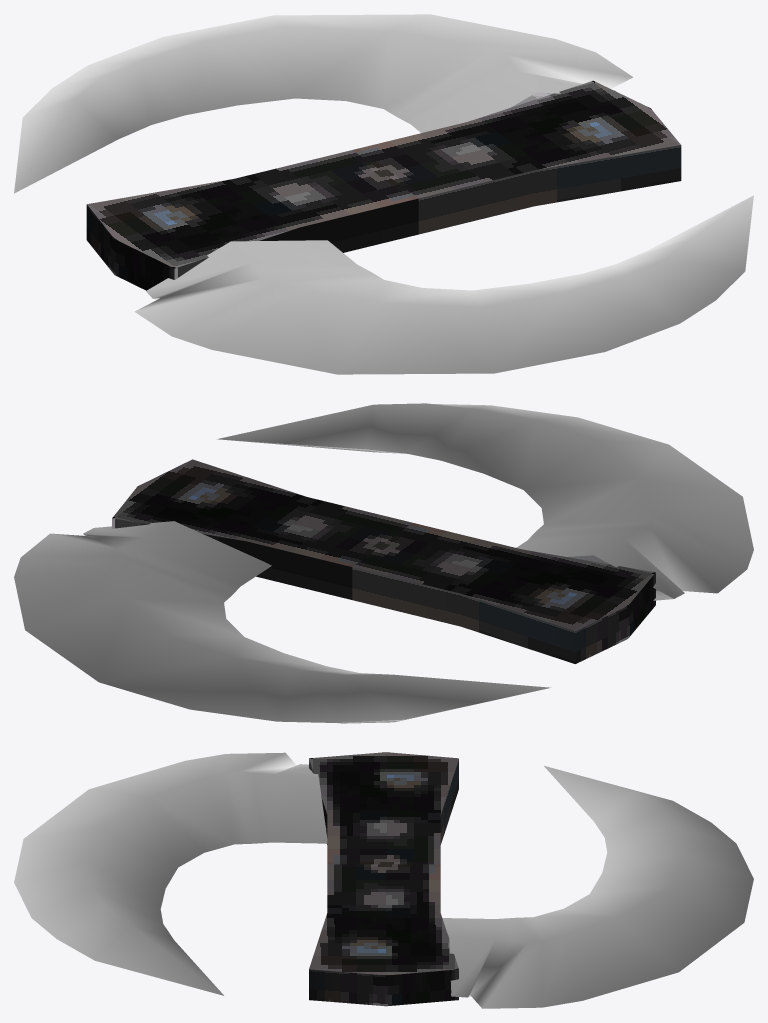
File: bullseye_star.glb
3 renders of one model, top to bottom at view 1: azimuth 30°, elevation 25°; view 2: azimuth 150°, elevation 25°; view 3: azimuth 270°, elevation 25°, orthographic. The views are drawn at different scales.
Parts seen in each view (by area): view 1: weapons/bullseye_star_1, weapons/bullseye_star_0; view 2: weapons/bullseye_star_1, weapons/bullseye_star_0; view 3: weapons/bullseye_star_1, weapons/bullseye_star_0.
Part boxes in pixels (box(x1,y1,x2,y2)): weapons/bullseye_star_1: box(14, 14, 753, 374); weapons/bullseye_star_0: box(86, 80, 681, 290); weapons/bullseye_star_1: box(14, 403, 753, 723); weapons/bullseye_star_0: box(112, 459, 655, 663); weapons/bullseye_star_1: box(14, 752, 753, 1008); weapons/bullseye_star_0: box(309, 752, 458, 1006).
Size of the model in its own units: 1.64 by 0.141 by 2.
Materials: 2 (1 with a texture image).
